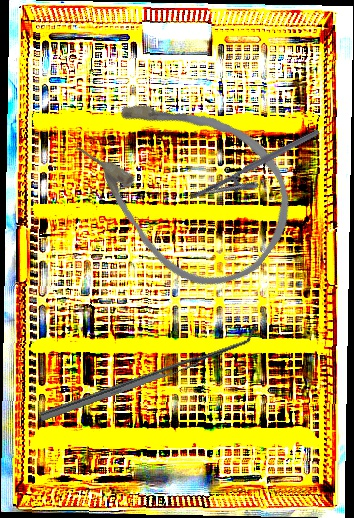Cannula: (50, 55, 320, 313)
Needle Holder: (188, 128, 329, 218)
Spatula Surgical: (36, 324, 262, 422)
